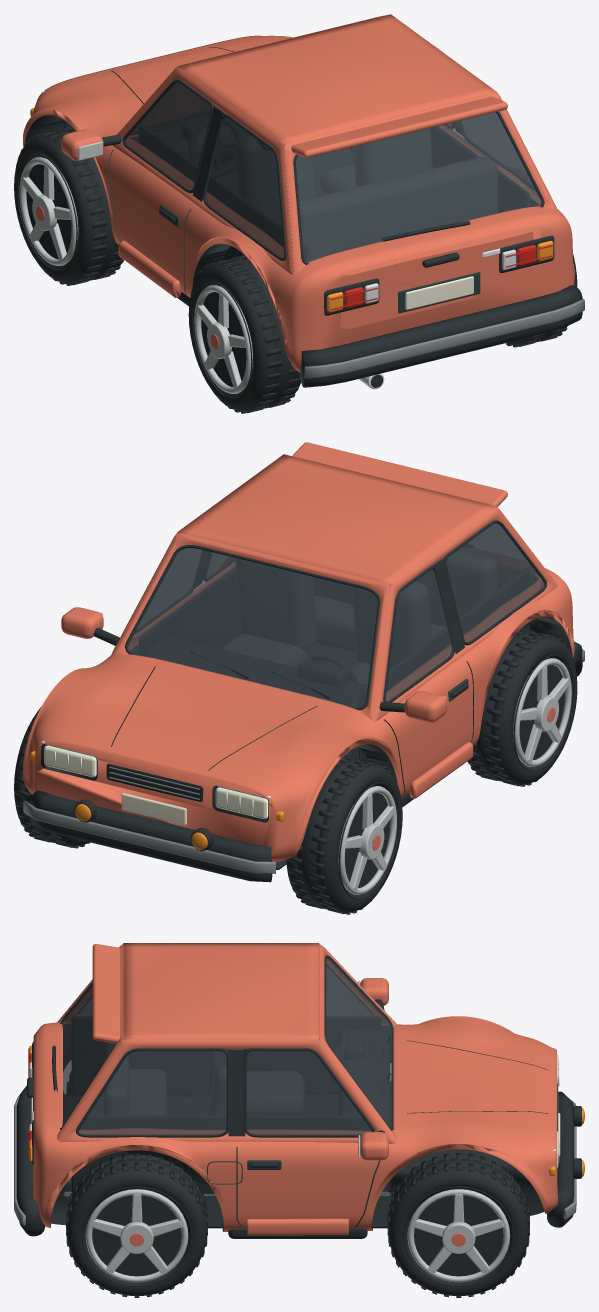
Rendered from sprint.fbx.
3 views of the same model, one above another, from view 1: azimuth 30°, elevation 25°; view 2: azimuth 150°, elevation 25°; view 3: azimuth 270°, elevation 25° (orthographic). The views are drawn at different scales.
Visible parts, largest first — view 1: Body, Wheel_RL_Mesh, Wheel_FL_Mesh, Wheel_RR_Mesh; view 2: Body, Wheel_FL_Mesh, Wheel_RL_Mesh, Wheel_FR_Mesh; view 3: Body, Wheel_FR_Mesh, Wheel_RR_Mesh.
Part boxes in pixels (x1,y1,x2,y2): Body: (23, 14, 584, 389); Wheel_RL_Mesh: (188, 255, 300, 413); Wheel_FL_Mesh: (14, 126, 123, 285); Wheel_RR_Mesh: (506, 254, 577, 347); Body: (23, 442, 584, 882); Wheel_FL_Mesh: (286, 755, 402, 914); Wheel_RL_Mesh: (467, 628, 577, 786); Wheel_FR_Mesh: (14, 706, 90, 848); Body: (14, 943, 584, 1238); Wheel_FR_Mesh: (387, 1153, 529, 1297); Wheel_RR_Mesh: (66, 1153, 207, 1297).
Size of the model in its own units: 232 by 156 by 332.
